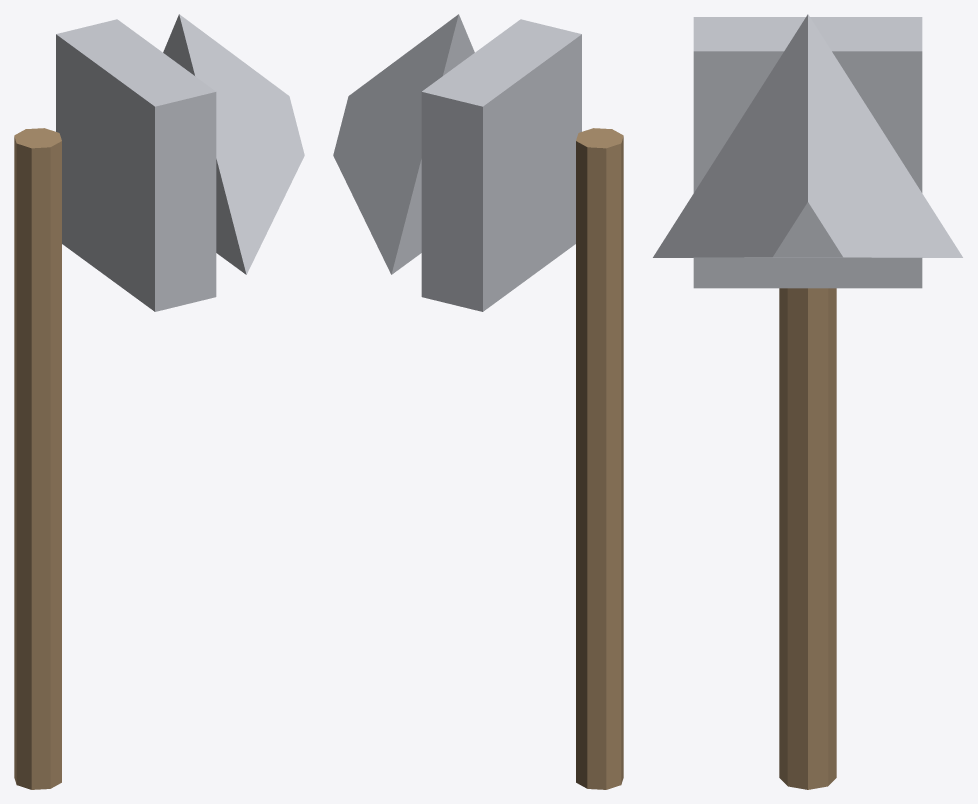
The model's file is axe.glb.
3 views of the same model, side by side, from view 1: azimuth 30°, elevation 25°; view 2: azimuth 150°, elevation 25°; view 3: azimuth 270°, elevation 25° (orthographic). The views are drawn at different scales.
Parts seen in each view (by area): view 1: axe; view 2: axe; view 3: axe.
Part boxes in pixels (<box>): axe: <box>14,14,304,789</box>; axe: <box>333,14,623,789</box>; axe: <box>653,14,962,789</box>.
Size of the model in its own units: 0.445 by 1.14 by 0.3811.
